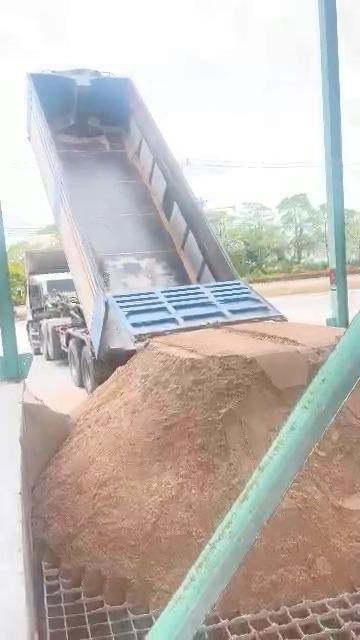sand: (35, 324, 338, 606), (220, 390, 359, 611), (20, 388, 72, 521)
